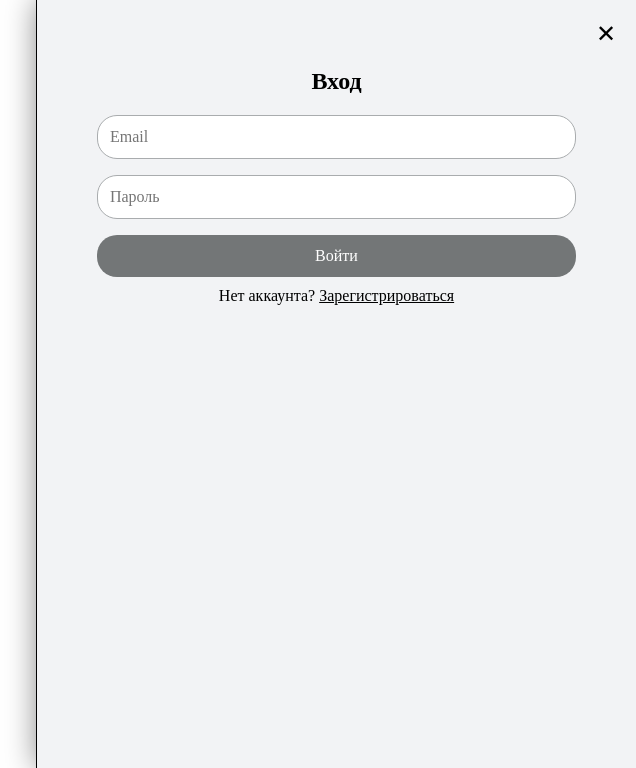
Test: LoginModal › shows validation error for empty email
The width and height of the screenshot is (636, 768).
Click the button "Войти" at (336, 256), box [97,235,576,277]
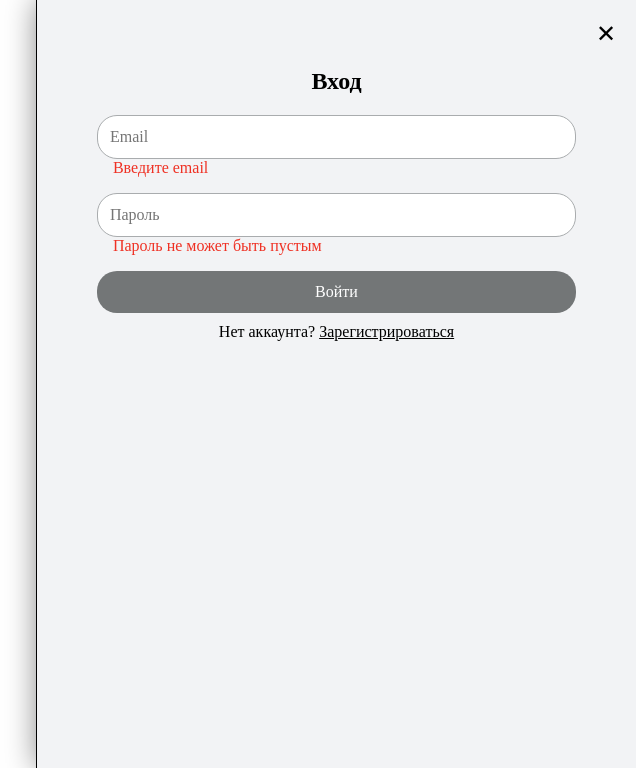
Result: the text "Введите email" is shown at [113,159,208,176]
